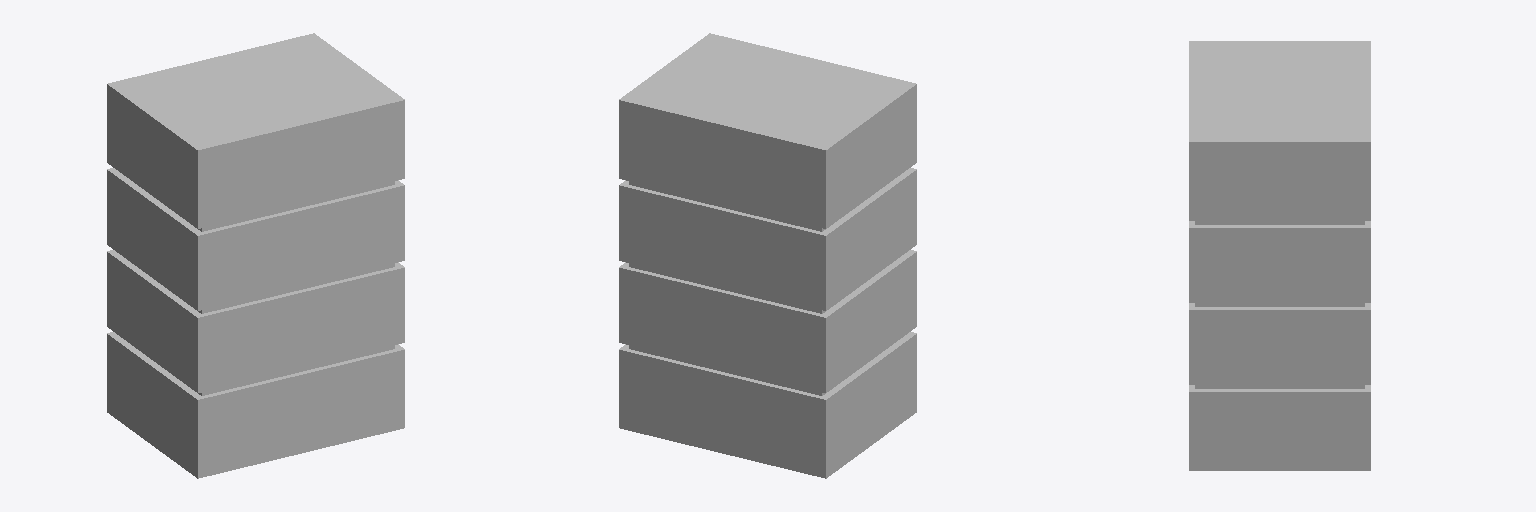
The model's file is building_0.obj.
The picture shows the model from 3 angles: view 1: azimuth 30°, elevation 25°; view 2: azimuth 150°, elevation 25°; view 3: azimuth 270°, elevation 25°; orthographic projection.
Visible parts, largest first — view 1: 立方体; view 2: 立方体; view 3: 立方体.
Boxes of the visible parts, box(x1,y1,x2,y2) form: 立方体: box(107, 33, 404, 478); 立方体: box(619, 33, 916, 478); 立方体: box(1189, 41, 1370, 470).
Bounding box in the file's own units: 7.86 × 11.88 × 5.98.